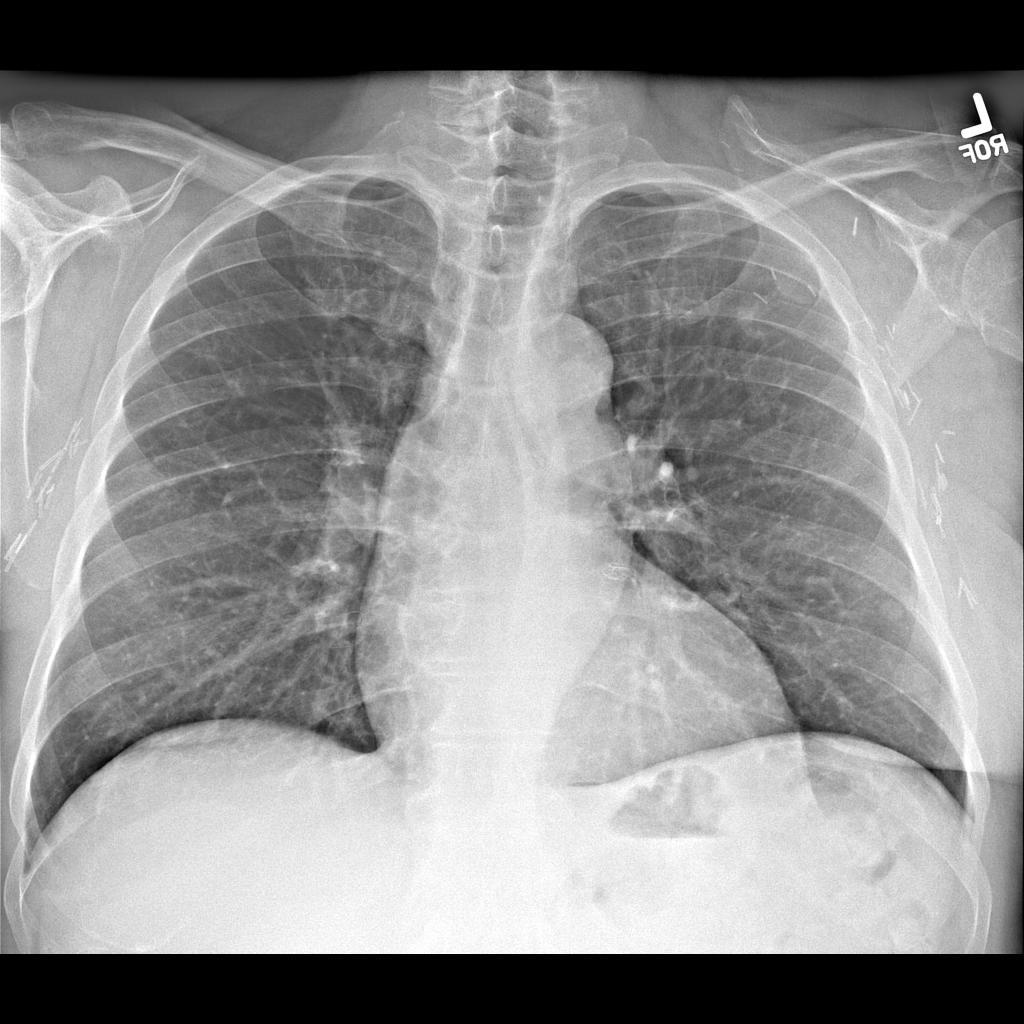Nodule: (876, 595, 908, 627)
